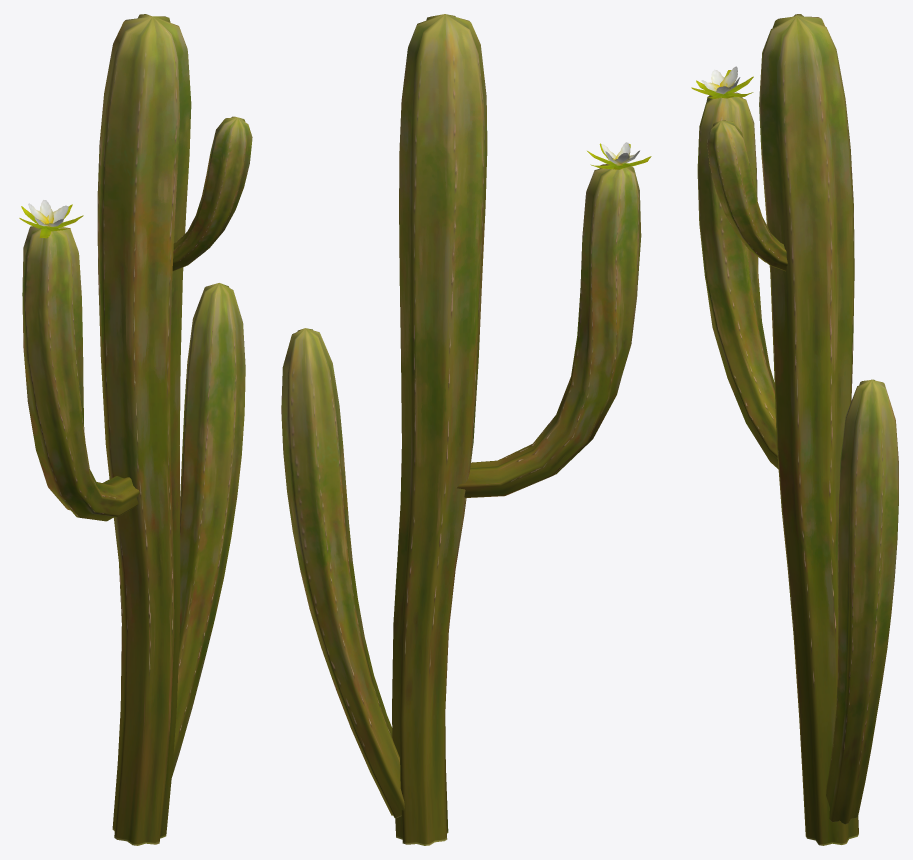
The model's file is P_Cactus04.obj.
The picture shows the model from 3 angles, left to right: view 1: azimuth 30°, elevation 25°; view 2: azimuth 150°, elevation 25°; view 3: azimuth 270°, elevation 25°; orthographic projection. The views are drawn at different scales.
Size of the model in its own units: 3.13 by 8.39 by 1.98.
